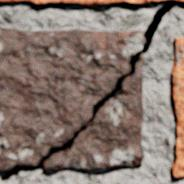brick: (171, 38, 183, 177), (0, 0, 163, 6)
broken_brick: (0, 29, 145, 168), (44, 53, 144, 169)
crack: (0, 0, 183, 182)
